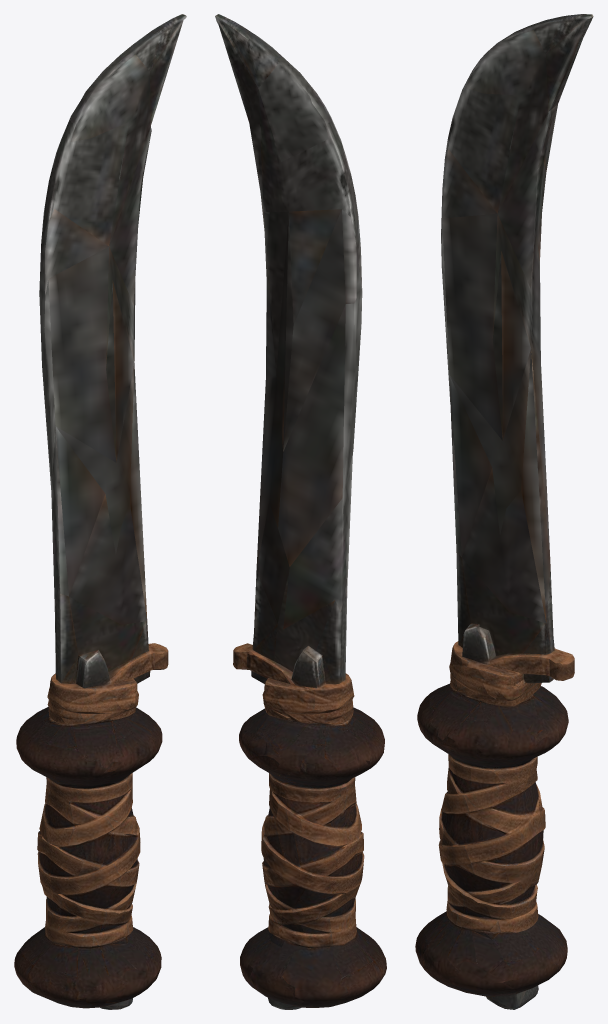
File: afena_war.glb
3 renders of one model, left to right at view 1: azimuth 30°, elevation 25°; view 2: azimuth 150°, elevation 25°; view 3: azimuth 330°, elevation 25°, orthographic. The views are drawn at different scales.
Size of the model in its own units: 0.3328 by 1.9 by 0.2497.
Materials: 1 (1 with a texture image).
